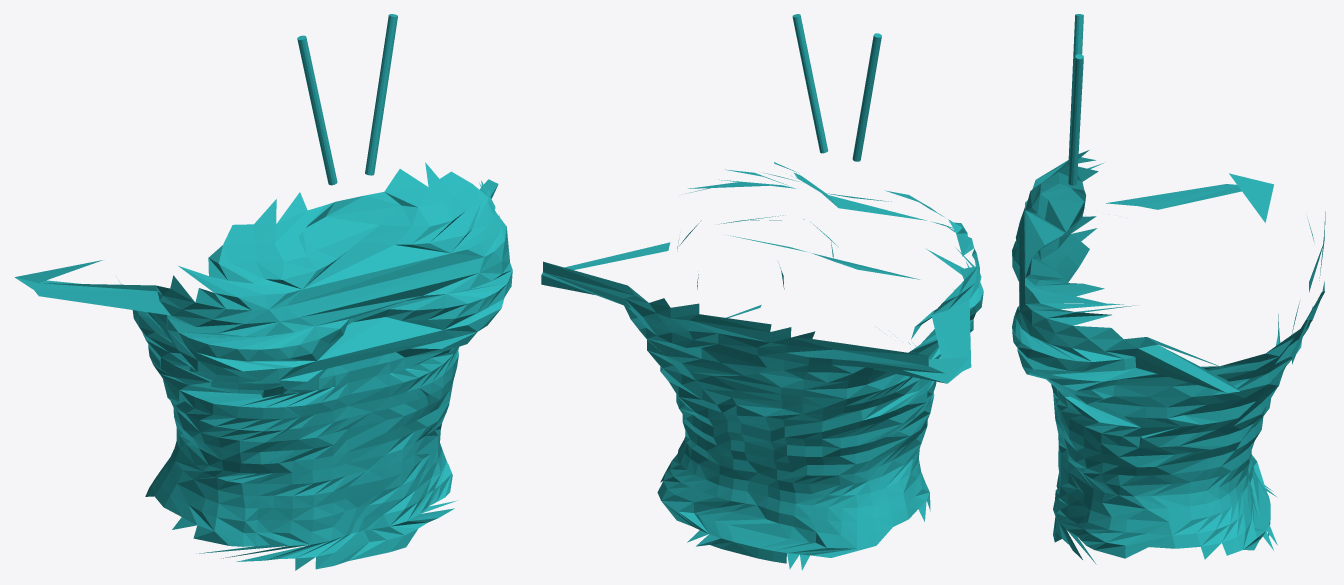
Rendered from bohemian_top_master_v1.glb.
The picture shows the model from 3 angles, left to right: view 1: azimuth 30°, elevation 25°; view 2: azimuth 150°, elevation 25°; view 3: azimuth 270°, elevation 25°; orthographic projection. The views are drawn at different scales.
Visible parts, largest first — view 1: BohemianTop, HalterCordR, HalterCordL; view 2: BohemianTop, HalterCordR, HalterCordL; view 3: BohemianTop, HalterCordR, HalterCordL.
Boxes of the visible parts, box(x1,y1,x2,y2) form: BohemianTop: box(14, 162, 512, 570); HalterCordR: box(365, 14, 397, 175); HalterCordL: box(297, 35, 337, 185); BohemianTop: box(541, 162, 983, 570); HalterCordR: box(792, 14, 828, 153); HalterCordL: box(852, 33, 881, 161); BohemianTop: box(1012, 150, 1325, 564); HalterCordR: box(1068, 54, 1083, 185); HalterCordL: box(1068, 14, 1083, 166).
Bounding box in the file's own units: 452 × 491 × 290.
